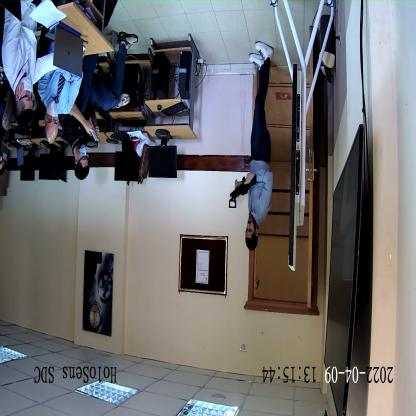handgun: (230, 172, 257, 202)
